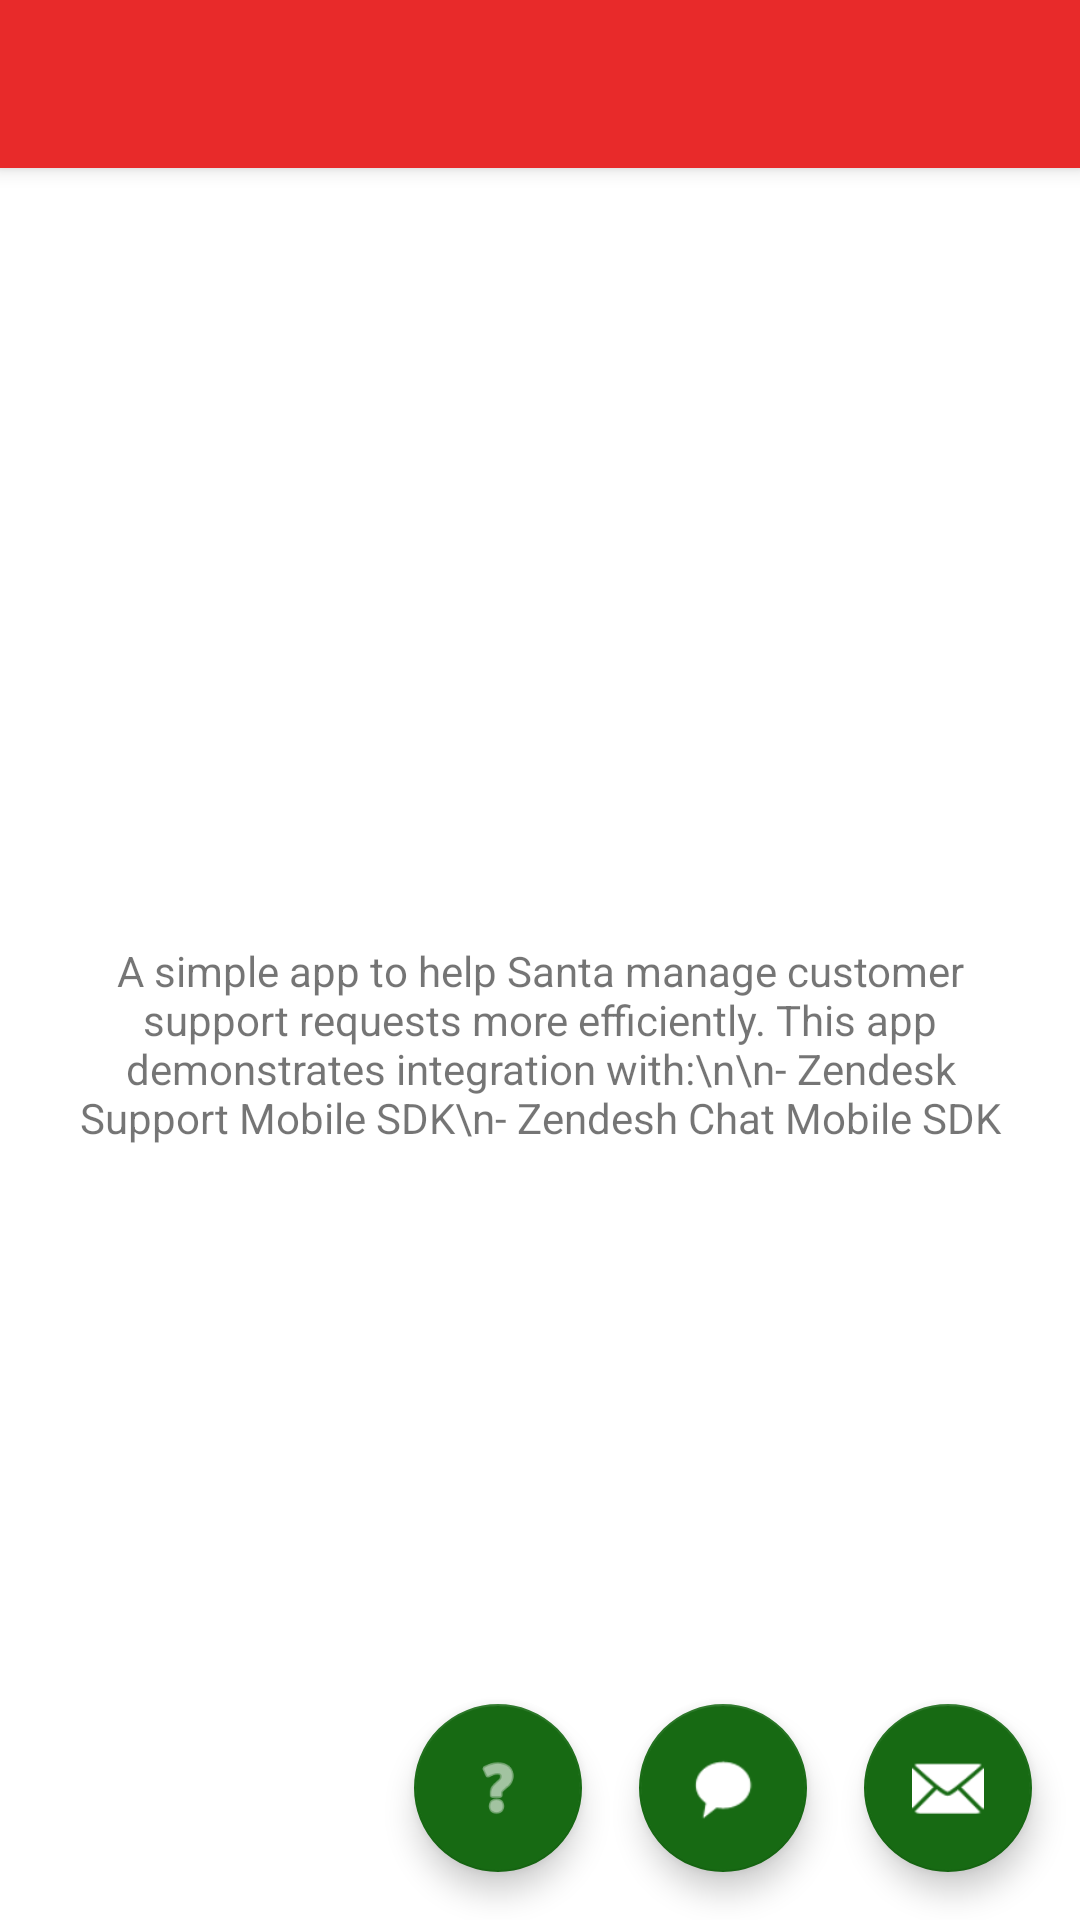

Named icons in this screenshot (1080x1920) and their centers, point (x, y):
email: point (948, 1788)
help: point (498, 1788)
sym action chat: point (723, 1788)
